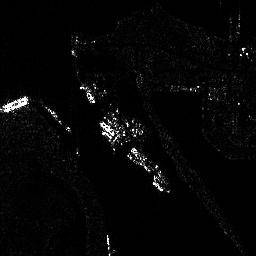ship: (44, 105, 71, 132), (1, 94, 29, 114), (98, 120, 117, 137)
